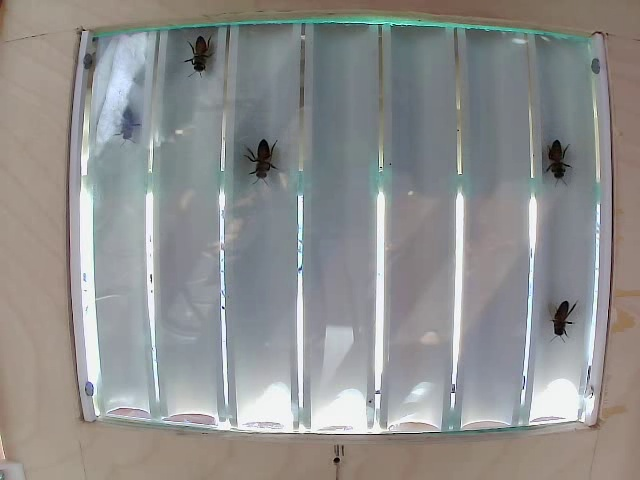bee: (179, 39, 223, 83), (248, 136, 293, 179), (111, 104, 154, 147), (534, 137, 568, 172), (542, 286, 570, 328)
